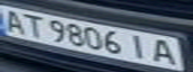0: (81, 25, 106, 52)
6: (103, 28, 127, 56)
8: (63, 20, 84, 47)
9: (42, 16, 69, 44)
A: (148, 36, 181, 66), (0, 7, 30, 34)
I: (124, 32, 151, 61)
T: (21, 11, 48, 38)
